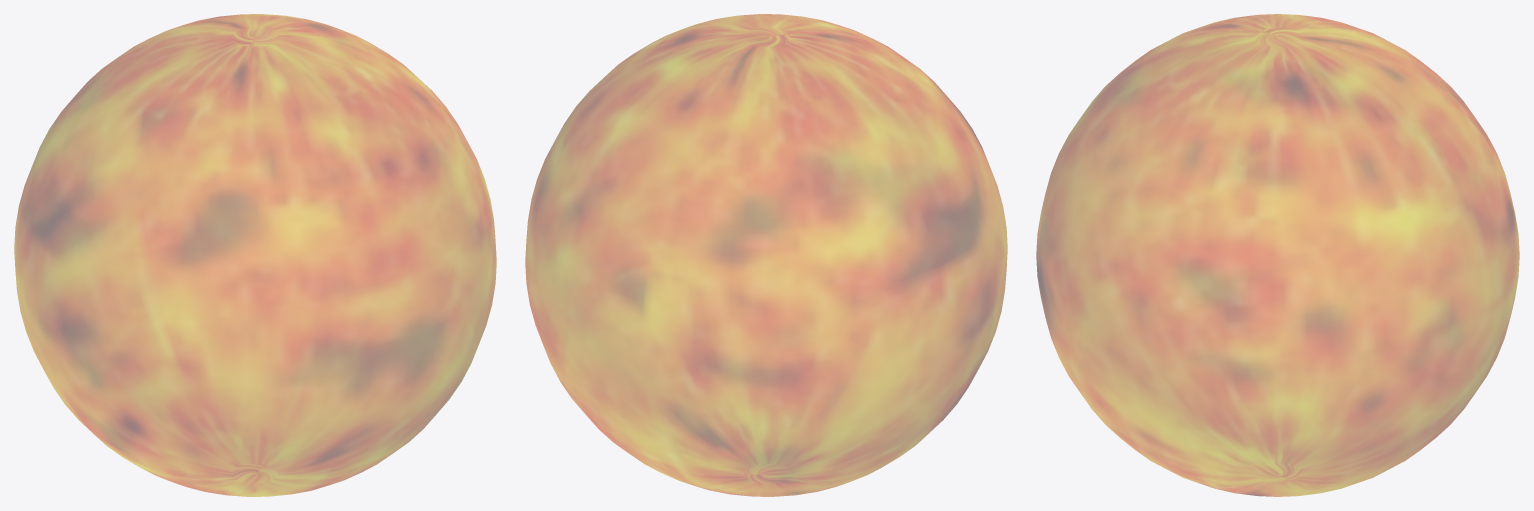
File: data.dae
3 views of the same model, side by side, from view 1: azimuth 30°, elevation 25°; view 2: azimuth 150°, elevation 25°; view 3: azimuth 270°, elevation 25° (orthographic).
Parts seen in each view (by area): view 1: Sphere; view 2: Sphere; view 3: Sphere.
Part boxes in pixels (box(x1,y1,x2,y2)): Sphere: box(14, 14, 496, 496); Sphere: box(525, 14, 1007, 496); Sphere: box(1036, 14, 1519, 496).
Size of the model in its own units: 2 by 2 by 2.
Materials: 1 (1 with a texture image).
